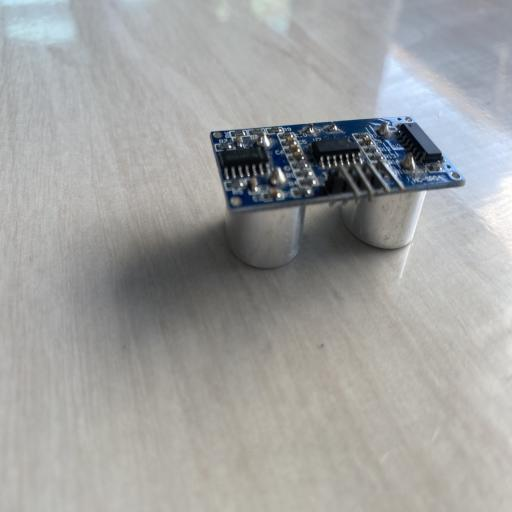Ultrasonic Sensor: (208, 114, 466, 270)
